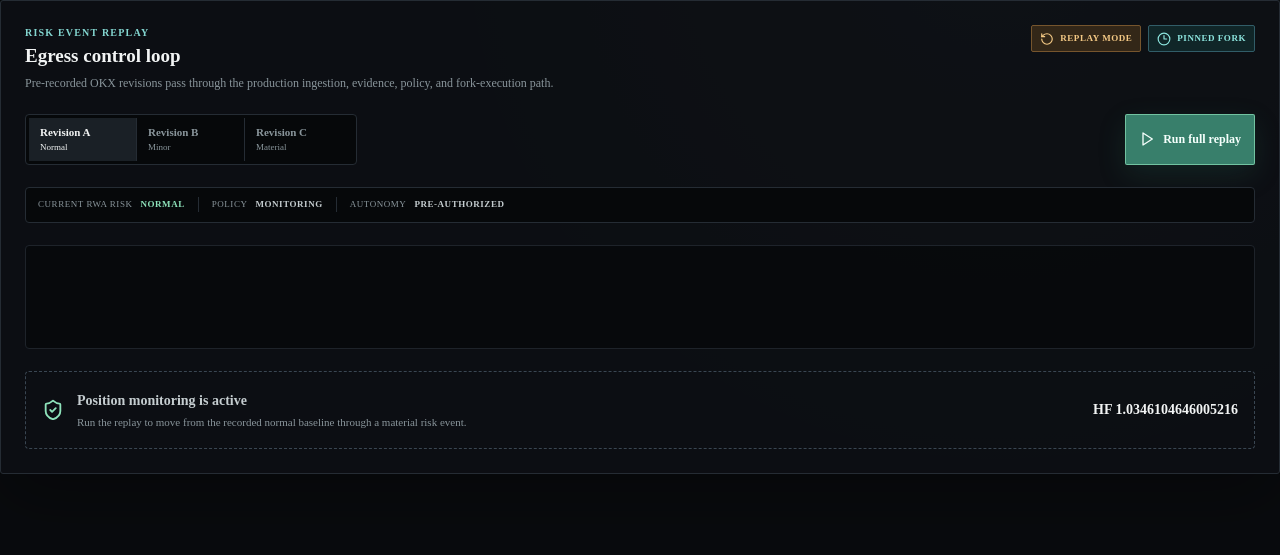
Test case: Replay console failure boundary › does not present a transaction when the backend replay fails
Click the button "Run full replay" at (1190, 139), box [1125,114,1255,165]
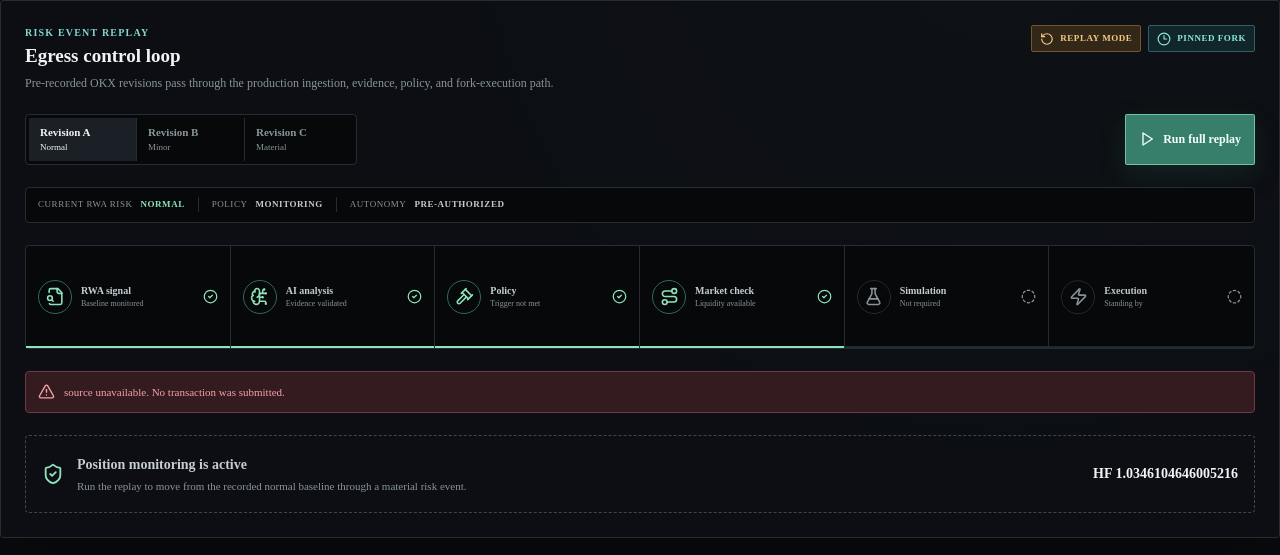
Expected: the text "source unavailable. No transaction was submitted." is shown, [64,384,285,400]
